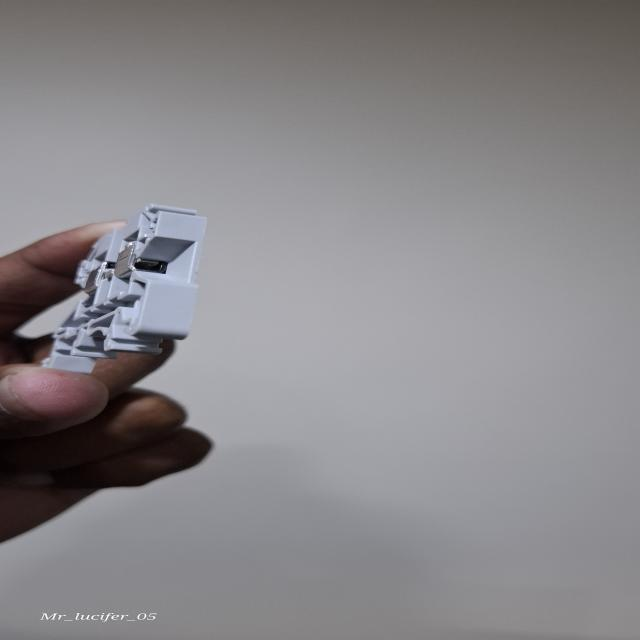Pass: (42, 203, 210, 374)
